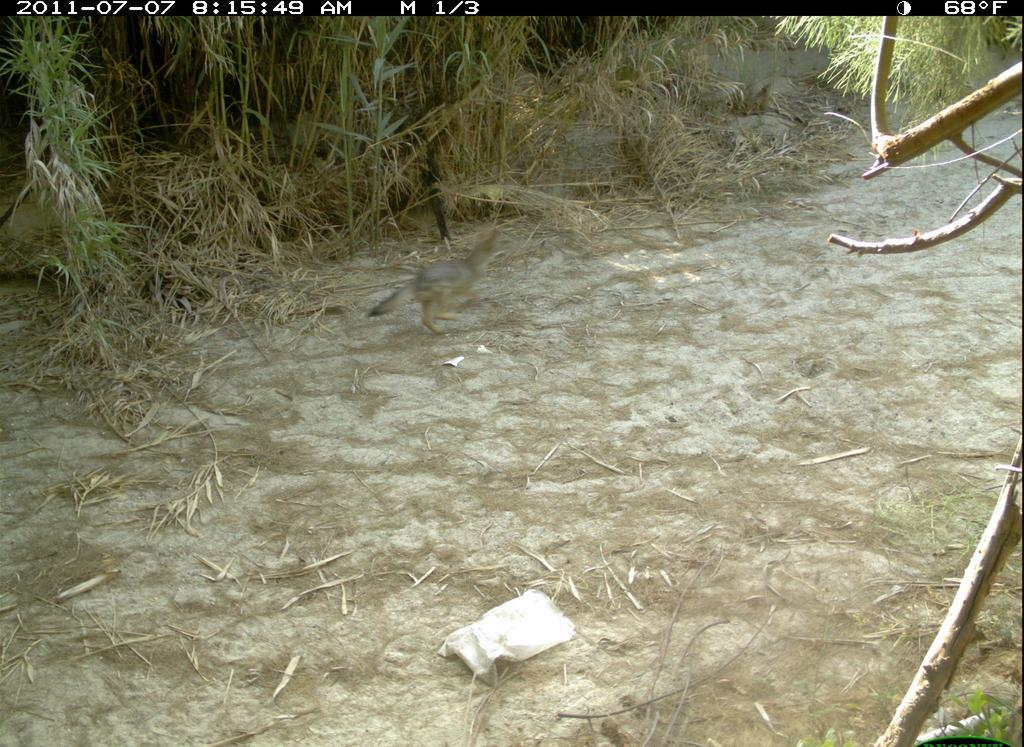coyote: (368, 228, 510, 342)
